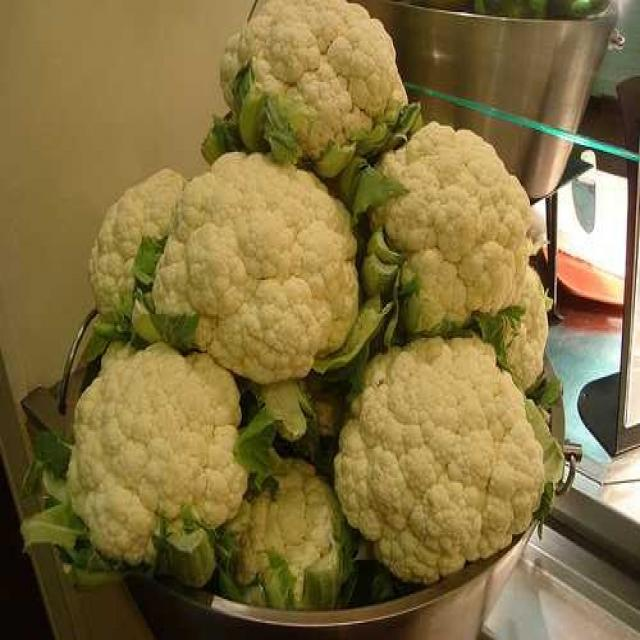cauliflower: (41, 0, 577, 612), (328, 326, 591, 620), (45, 342, 259, 596), (178, 108, 380, 367), (354, 115, 560, 349), (204, 0, 435, 188)
